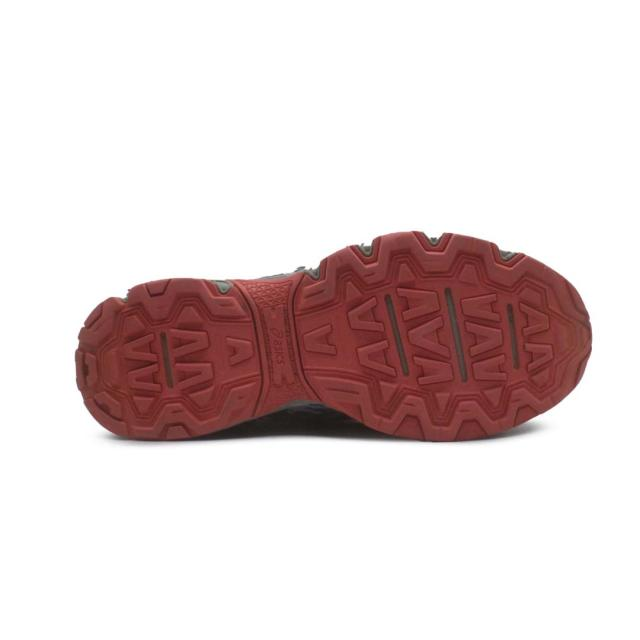outersole: (75, 228, 589, 440)
